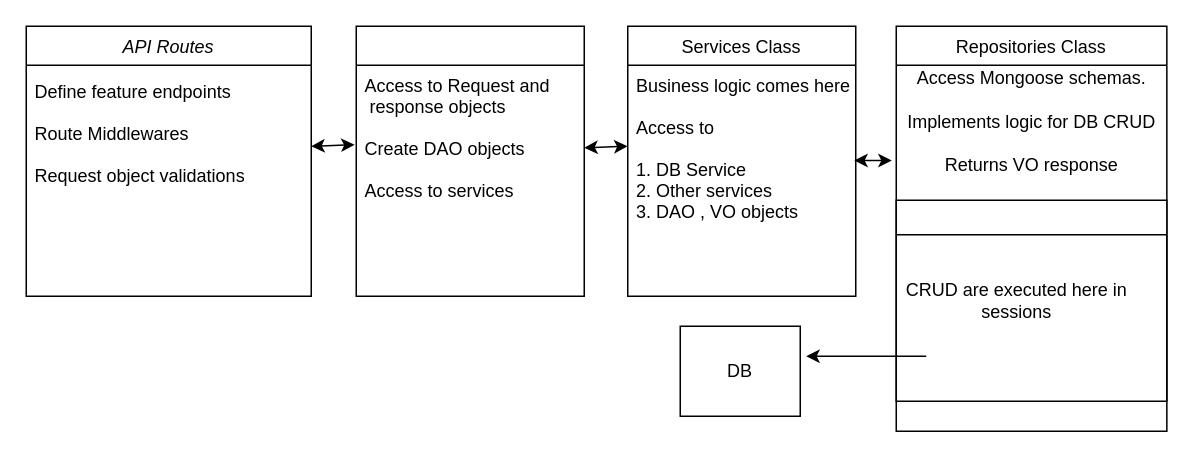
The diagram is 1194 pixels wide and 458 high, and some of its shapes have lost their labels. The box of each missing label's shape, as (x1, y1, x2, y2) in pixels:
Controller Class: (355, 25, 584, 296)
Data Access Wrapper Class: (895, 199, 1167, 401)
